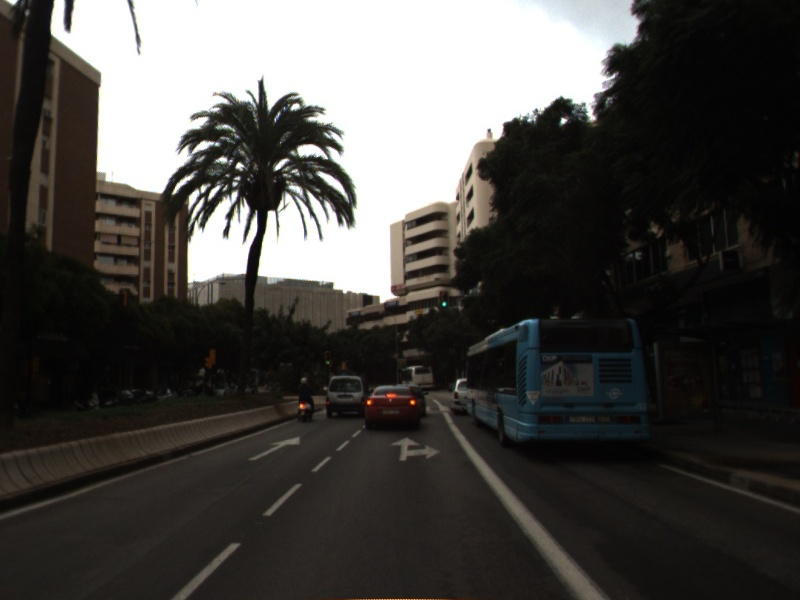STRAIGHT: (246, 434, 301, 462)
STRAIGHT_RIGHT: (388, 435, 442, 462)
